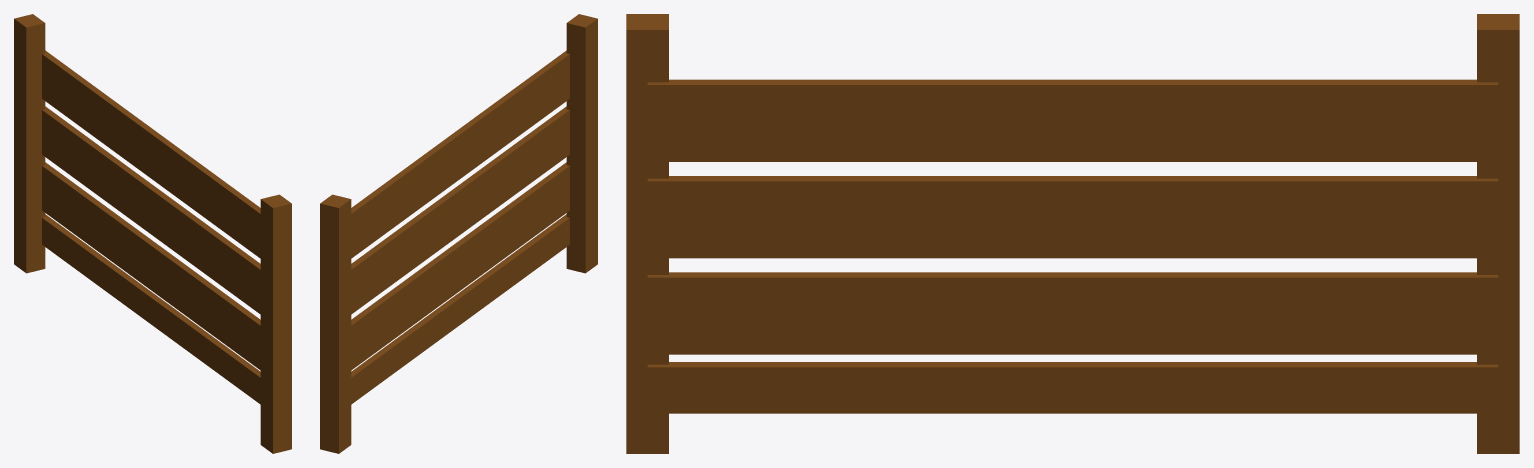
File: Fence.fbx
The picture shows the model from 3 angles, left to right: view 1: azimuth 30°, elevation 25°; view 2: azimuth 150°, elevation 25°; view 3: azimuth 270°, elevation 25°; orthographic projection. The views are drawn at different scales.
Visible parts, largest first — view 1: Cube.294; view 2: Cube.294; view 3: Cube.294.
Part boxes in pixels (bbox=[...]): Cube.294: bbox=[14, 14, 291, 453]; Cube.294: bbox=[320, 14, 597, 453]; Cube.294: bbox=[626, 14, 1519, 453].
Bounding box in the file's own units: 35 × 374 × 714.
